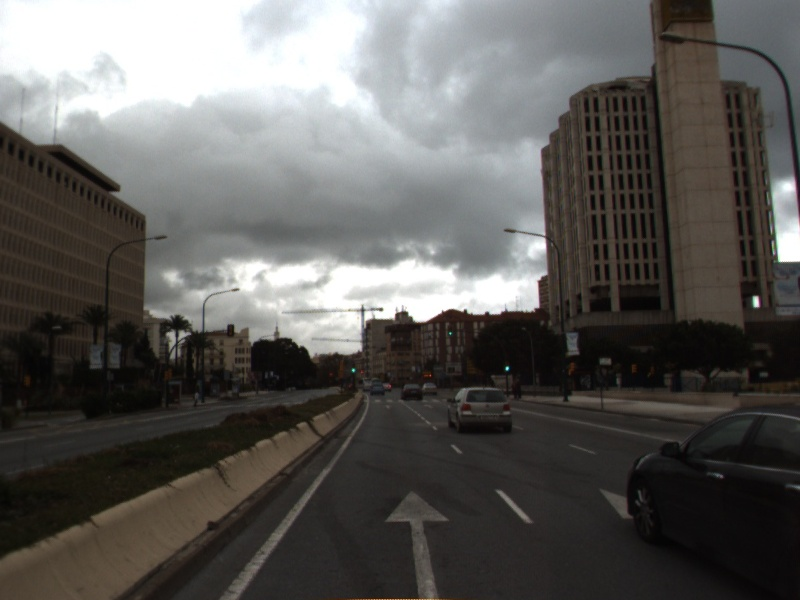STRAIGHT: (381, 487, 453, 600)
